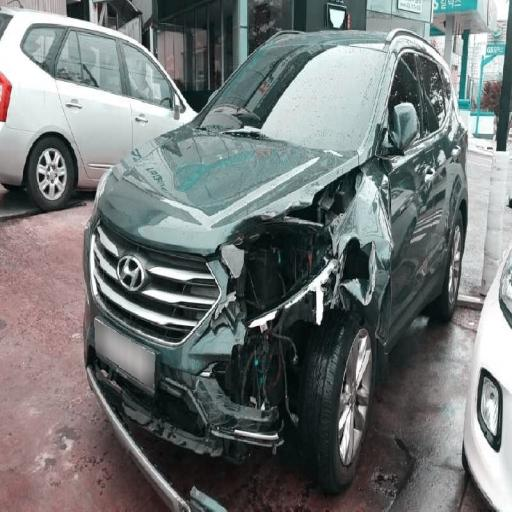broken: (208, 214, 369, 442), (88, 293, 244, 512)
